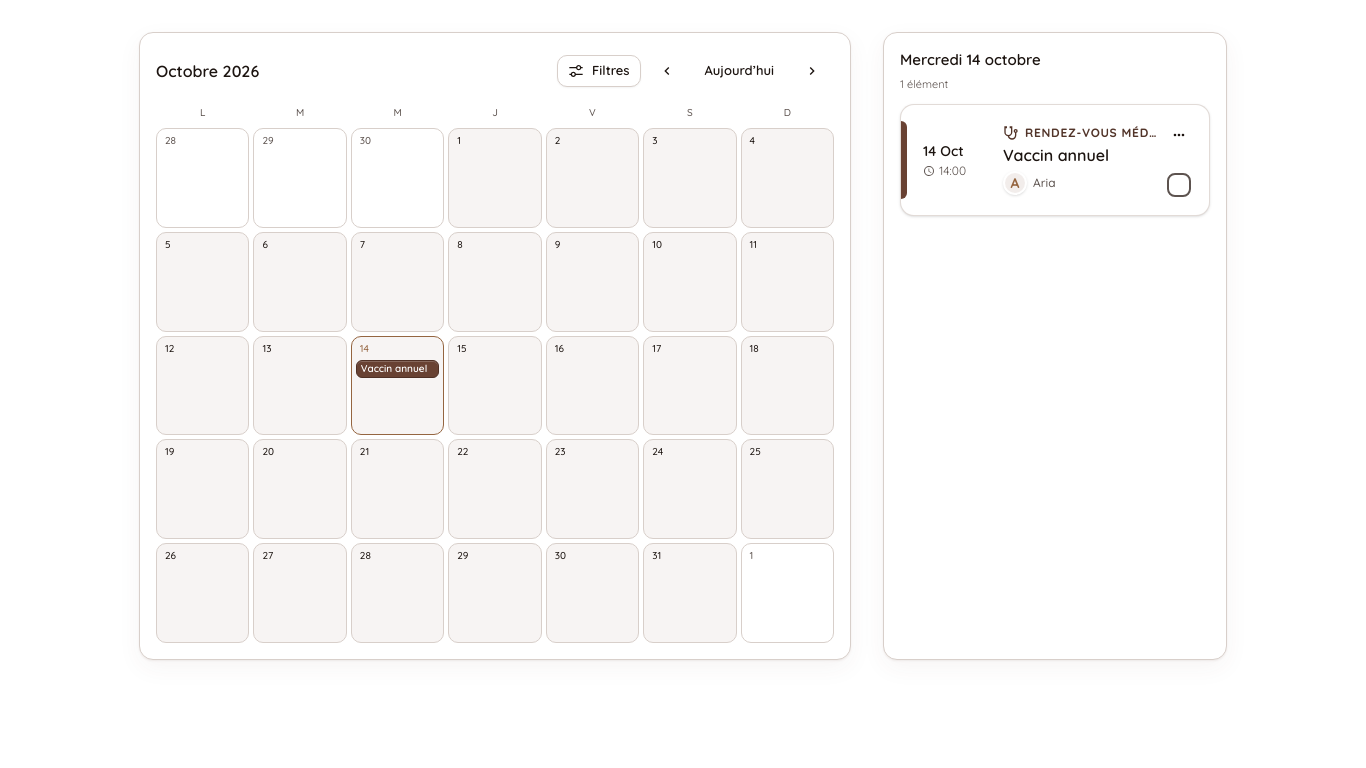
Test case: CalendarContent › reprend l’icône mobile et réinitialise tous les filtres depuis la croix
The width and height of the screenshot is (1366, 768).
Click the button "Filtres": (599, 71) x1=557 y1=55 x2=640 y2=87
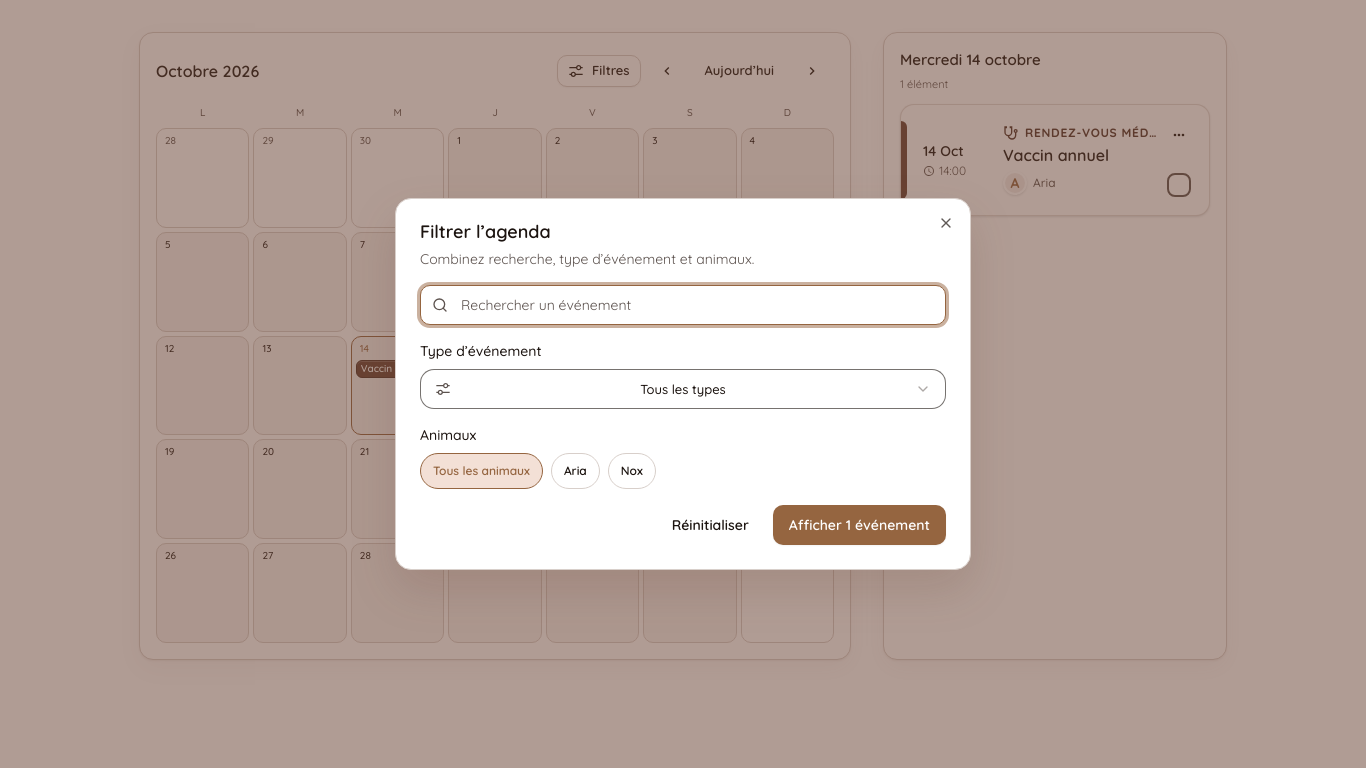
In the search field labelled "Rechercher un événement": (683, 305) x1=420 y1=285 x2=946 y2=325, type "vaccin"
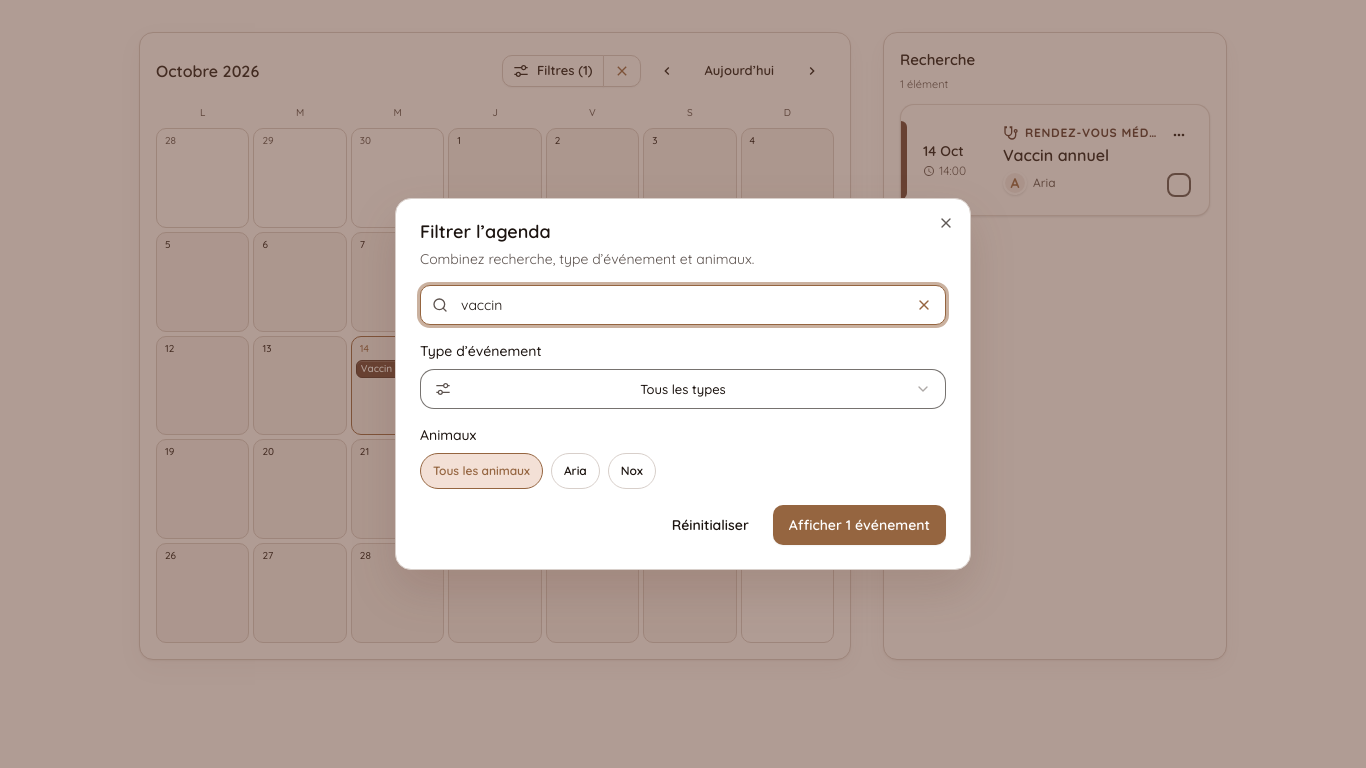
Click the button "Afficher 1 événement": (859, 525) x1=773 y1=505 x2=946 y2=545
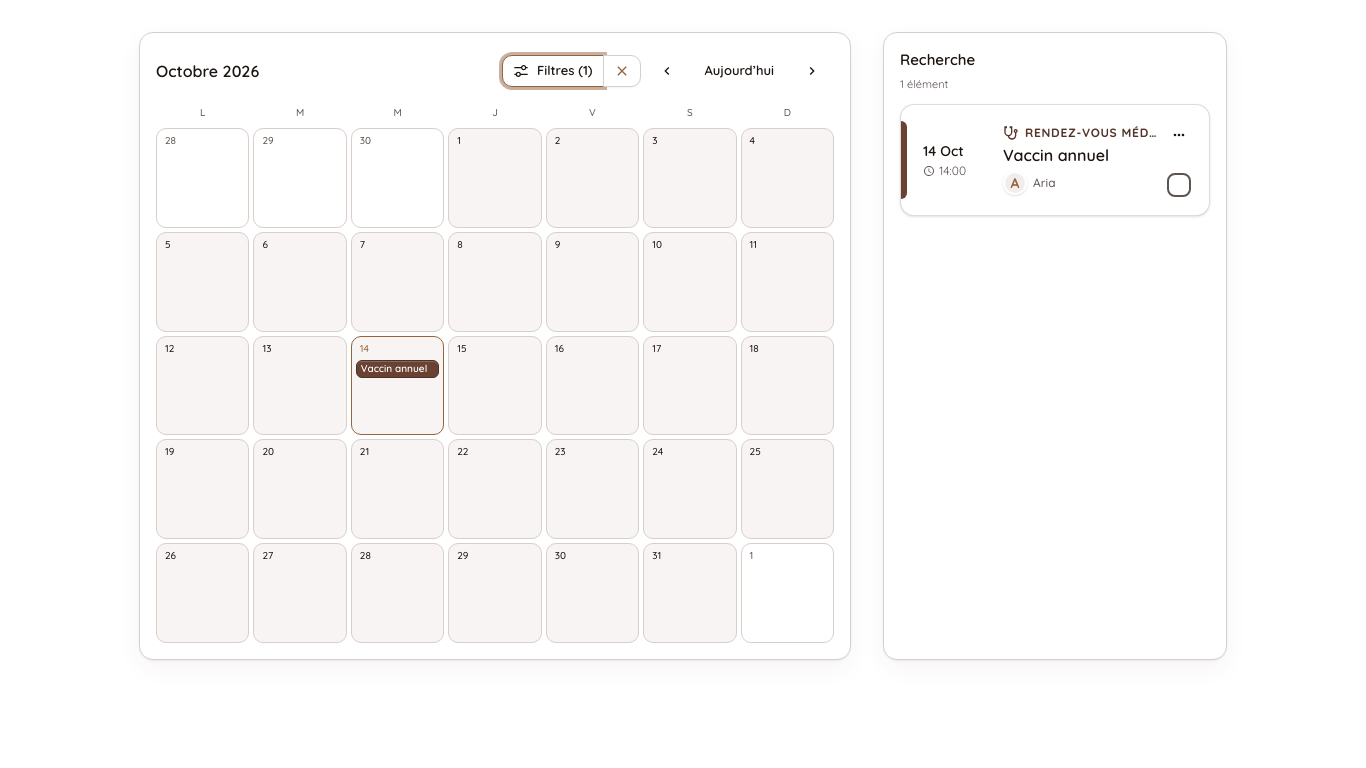
Result: the button "Filtres (1)" is shown at x1=502 y1=55 x2=604 y2=87
Click the button named "Réinitialiser les filtres": (622, 71) x1=603 y1=55 x2=641 y2=87
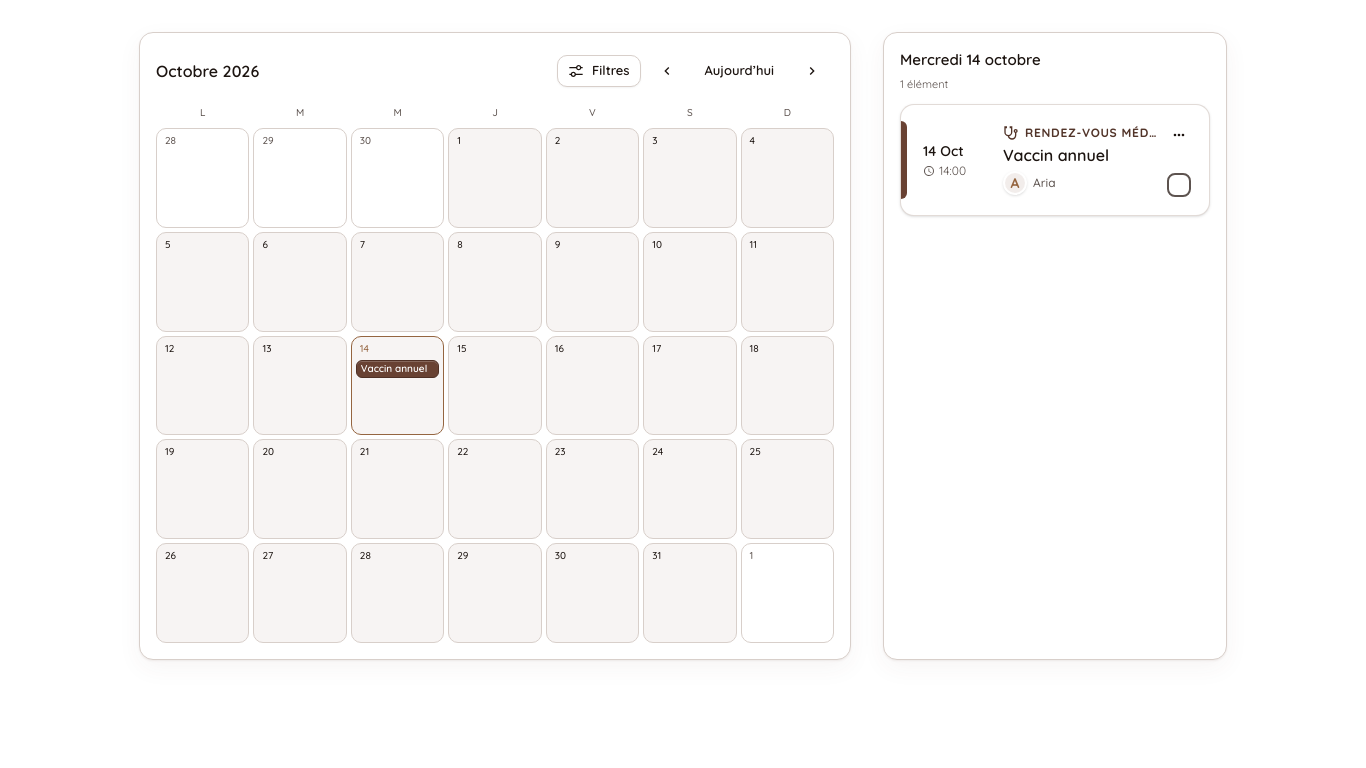
Expected: the button "Filtres" is shown, x1=557 y1=55 x2=640 y2=87
Result: the heading "Recherche" is gone
